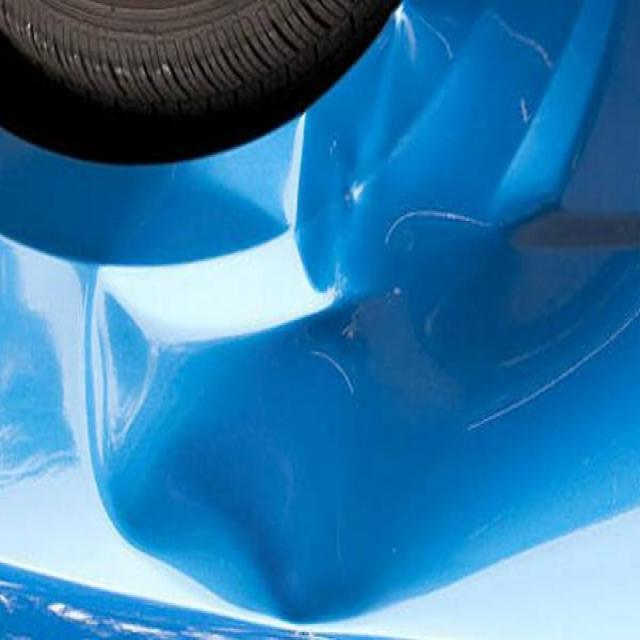dent: (21, 127, 640, 601)
